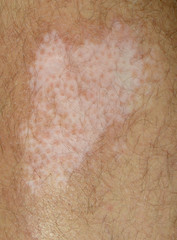vitiligo: (7, 21, 150, 211)
